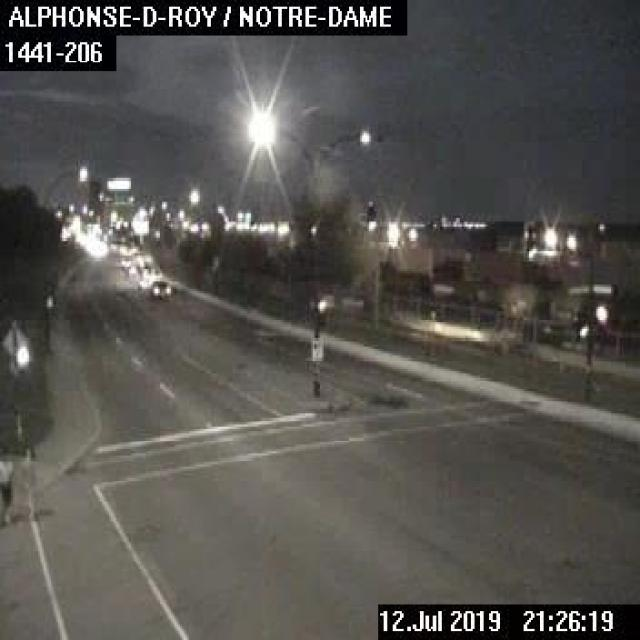pedestrian: (0, 444, 11, 522)
vehicle: (149, 277, 172, 298)
